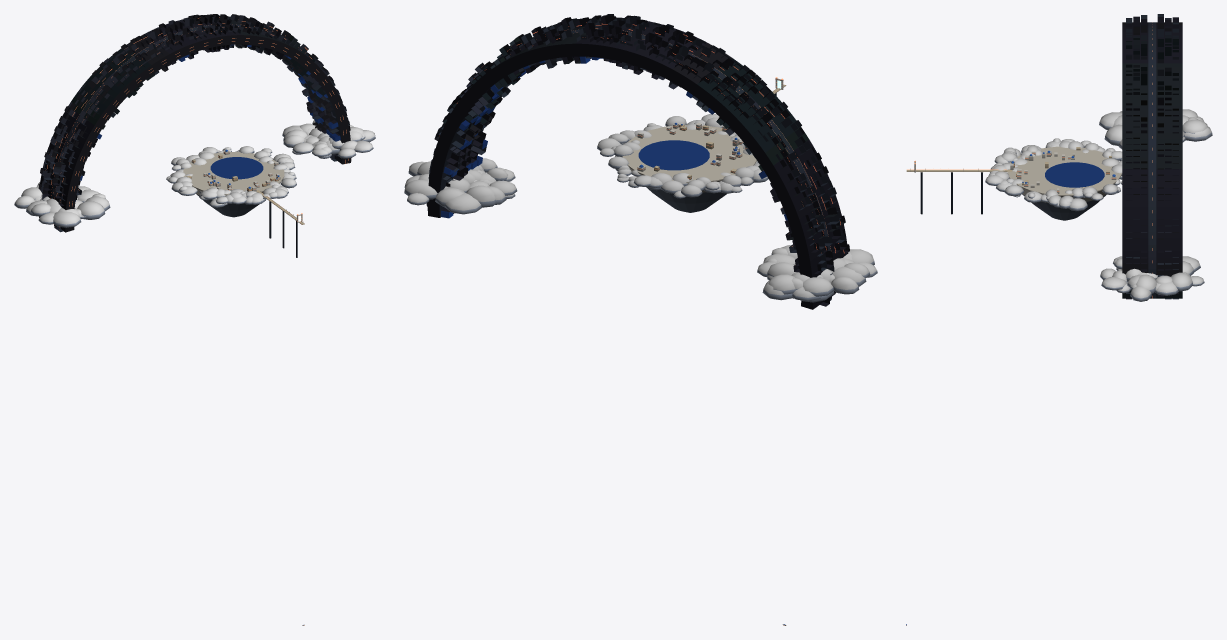
File: shaddai_edge_rise_v01.glb
The picture shows the model from 3 angles, left to right: view 1: azimuth 30°, elevation 25°; view 2: azimuth 150°, elevation 25°; view 3: azimuth 270°, elevation 25°; orthographic projection. The views are drawn at different scales.
Parts seen in each view (by area): view 1: shaddai_edge_rise; view 2: shaddai_edge_rise; view 3: shaddai_edge_rise.
Part boxes in pixels (x1,y1,x2,y2): shaddai_edge_rise: (14,14,375,257); shaddai_edge_rise: (404,14,877,309); shaddai_edge_rise: (906,14,1212,301).
Size of the model in its own units: 1805 by 2612 by 1222.
